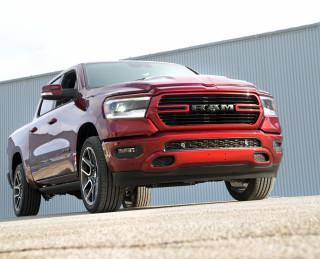ram: (188, 99, 237, 114)
